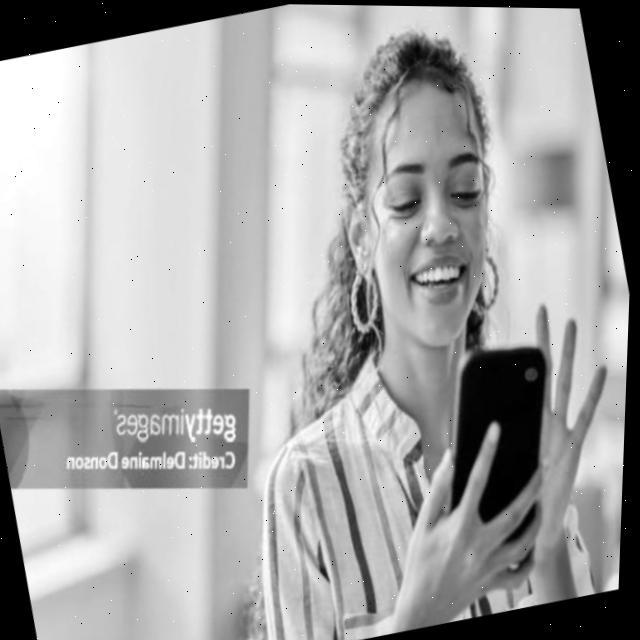phone: (405, 323, 596, 588)
